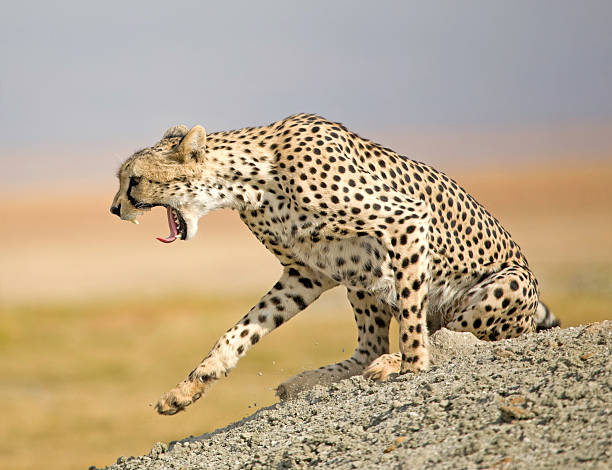cheetah: (103, 117, 223, 249)
